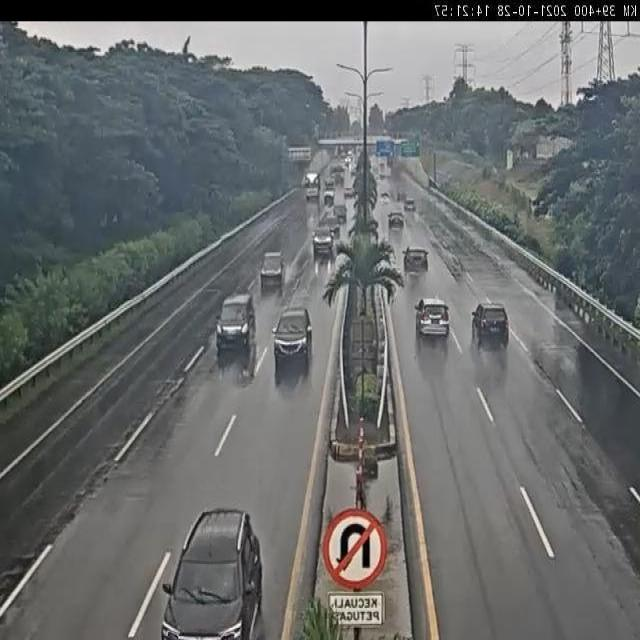Bus: (304, 171, 319, 198)
Car: (158, 513, 265, 640), (271, 306, 316, 364), (213, 294, 256, 352), (470, 302, 511, 340), (414, 296, 451, 336), (258, 250, 288, 289), (401, 246, 430, 277), (312, 226, 333, 260), (389, 210, 405, 232), (403, 196, 418, 211)
